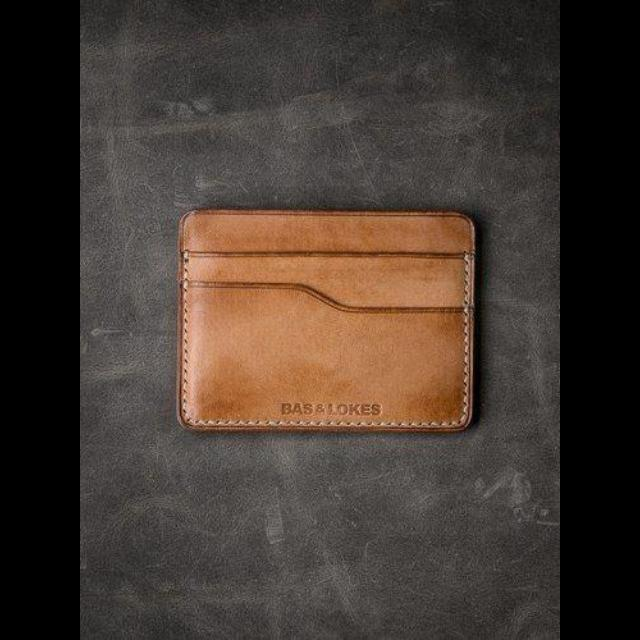wallet: (174, 205, 482, 443)
